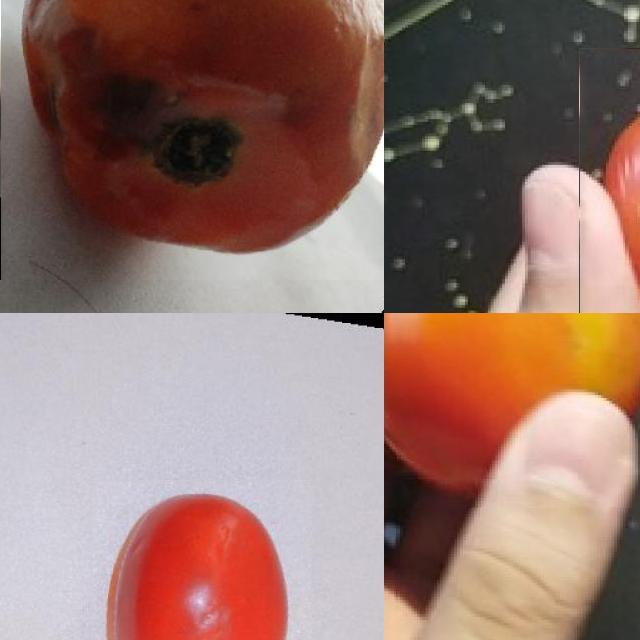Fresh Tomato: (384, 313, 640, 507), (91, 479, 310, 640)
Rotten Tomato: (0, 0, 384, 280), (579, 48, 640, 313)
